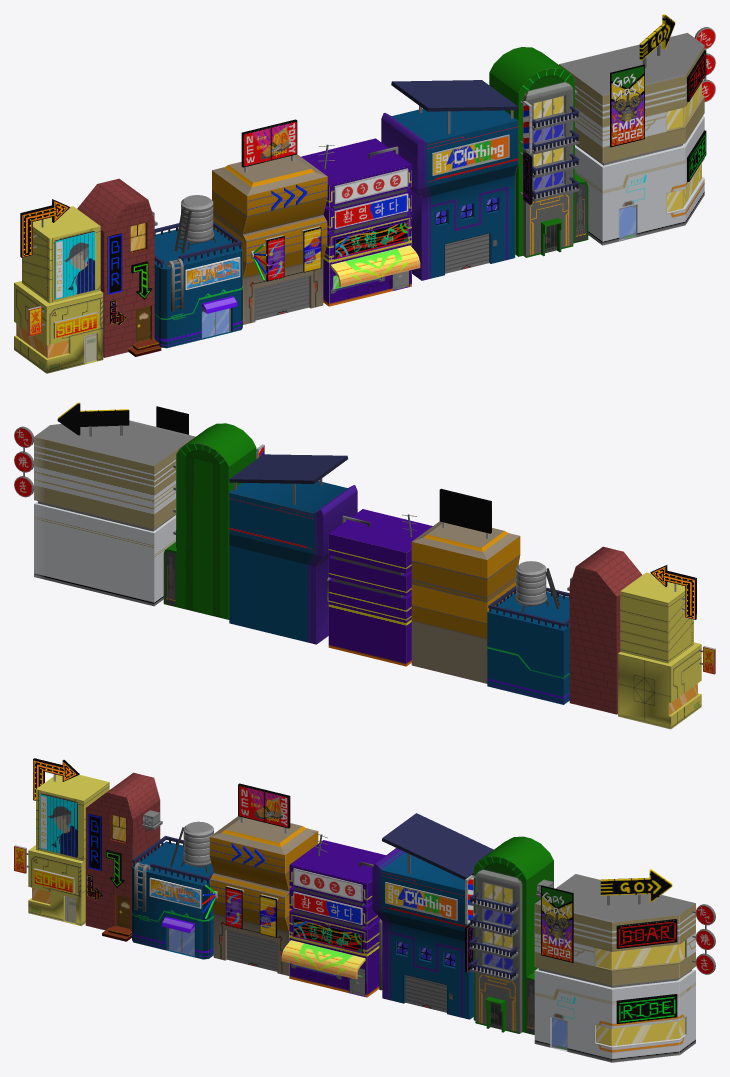
The picture shows the model from 3 angles, top to bottom: view 1: azimuth 30°, elevation 25°; view 2: azimuth 150°, elevation 25°; view 3: azimuth 330°, elevation 25°; orthographic projection. The views are drawn at different scales.
Visible parts, largest first — view 1: low-rise08, low-rise06, low-rise04, low-rise07, low-rise03, low-rise05, low-rise01, low-rise02, shop sign8, shop sign1, shop sign5, shop sign4 (+4 smaller); view 2: low-rise08, low-rise06, low-rise04, low-rise05, low-rise07, low-rise01, low-rise03, low-rise02, shop sign8, shop sign4, shop sign1; view 3: low-rise08, low-rise06, low-rise07, low-rise04, low-rise05, low-rise03, shop sign8, low-rise02, low-rise01, shop sign1, shop sign5, shop sign4 (+4 smaller).
Part boxes in pixels (bbox=[...]): low-rise08: bbox=[559, 33, 704, 245]; low-rise06: bbox=[381, 80, 518, 280]; low-rise04: bbox=[212, 154, 327, 324]; low-rise07: bbox=[489, 47, 588, 257]; low-rise03: bbox=[154, 195, 242, 348]; low-rise05: bbox=[301, 138, 420, 306]; low-rise01: bbox=[14, 206, 103, 373]; low-rise02: bbox=[77, 178, 161, 357]; shop sign8: bbox=[610, 14, 715, 181]; shop sign1: bbox=[20, 199, 97, 338]; shop sign5: bbox=[334, 168, 408, 259]; shop sign4: bbox=[241, 119, 321, 281]; low-rise08: bbox=[34, 420, 195, 606]; low-rise06: bbox=[229, 454, 357, 644]; low-rise04: bbox=[411, 521, 520, 683]; low-rise05: bbox=[328, 509, 432, 666]; low-rise07: bbox=[163, 423, 256, 619]; low-rise01: bbox=[618, 572, 701, 729]; low-rise03: bbox=[487, 561, 569, 704]; low-rise02: bbox=[567, 546, 641, 714]; shop sign8: bbox=[14, 402, 188, 497]; shop sign4: bbox=[439, 488, 491, 538]; shop sign1: bbox=[650, 565, 715, 674]; low-rise08: bbox=[534, 874, 695, 1062]; low-rise06: bbox=[372, 813, 493, 1019]; low-rise07: bbox=[469, 836, 553, 1034]; low-rise04: bbox=[209, 816, 318, 975]; low-rise05: bbox=[281, 832, 385, 997]; low-rise03: bbox=[132, 821, 213, 959]; shop sign8: bbox=[541, 869, 715, 1023]; low-rise02: bbox=[85, 772, 162, 941]; low-rise01: bbox=[28, 774, 109, 926]; shop sign1: bbox=[14, 758, 79, 893]; shop sign5: bbox=[293, 868, 362, 953]; shop sign4: bbox=[202, 783, 290, 937].
Bounding box in the file's own units: 570 × 141 × 73.59.
Materials: 4 (4 with a texture image).
